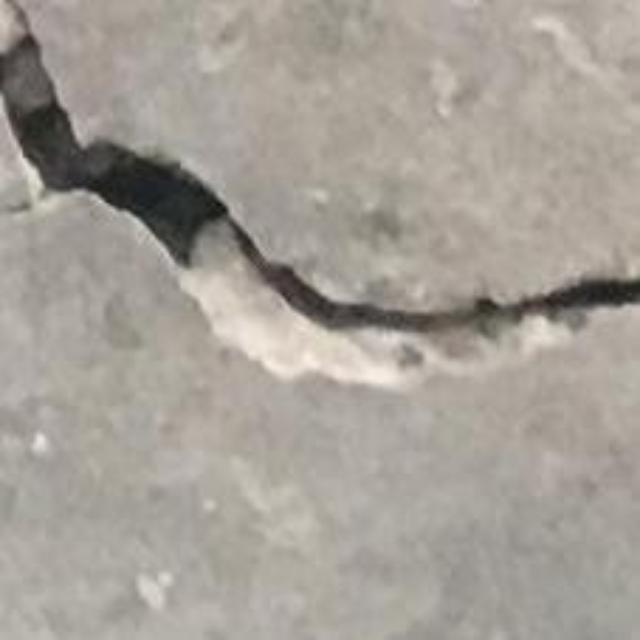crack: (0, 6, 639, 346)
